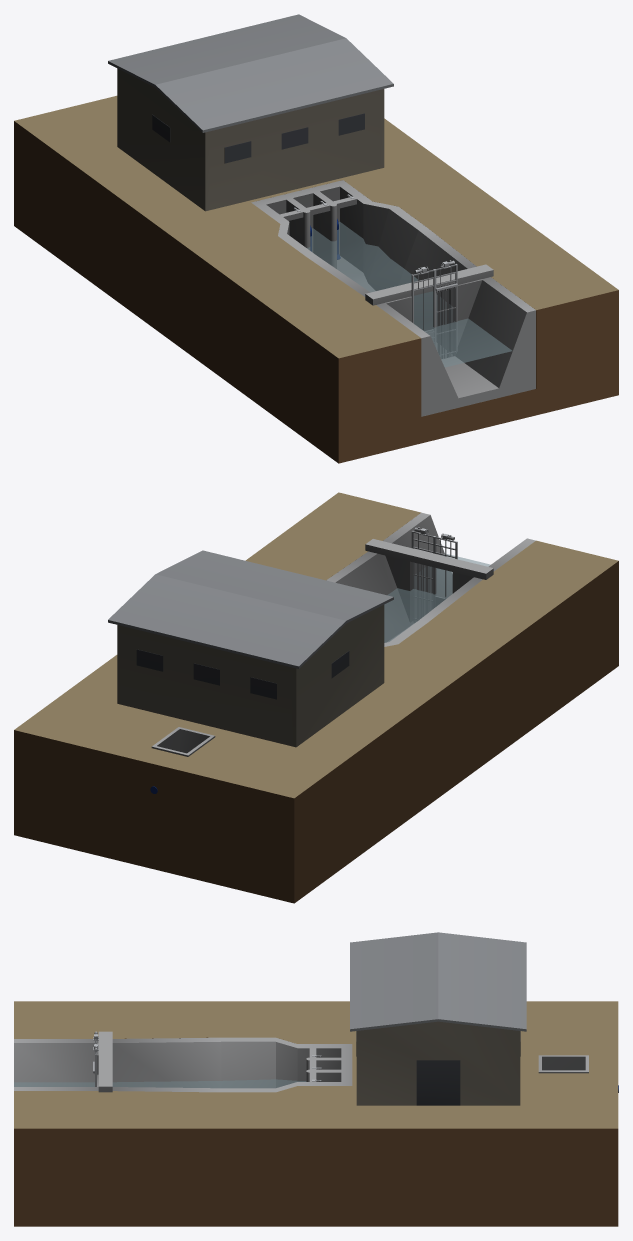
3 renders of one model, top to bottom at view 1: azimuth 30°, elevation 25°; view 2: azimuth 150°, elevation 25°; view 3: azimuth 270°, elevation 25°, orthographic. The views are drawn at different scales.
Visible parts, largest first — view 1: STATIC__SOIL, STATIC__CIVIL, STATIC__BLD-ROOF, STATIC__BLD-WALL-S, STATIC__BLD-WALL-W, BASIN-01, RACK-01__RACK__BARS, STATIC__BLD-WALL-S__WIN; view 2: STATIC__SOIL, STATIC__BLD-ROOF, STATIC__BLD-WALL-N, STATIC__CIVIL, STATIC__BLD-WALL-W, BASIN-01, RACK-01__RACK__BARS, STATIC__BLD-WALL-N__WIN, STATIC__FM-PIT; view 3: STATIC__SOIL, STATIC__CIVIL, STATIC__BLD-ROOF, STATIC__BLD-WALL-E, STATIC__BLD-WALL-E__WIN, BASIN-01, STATIC__FM-PIT.
Part boxes in pixels (<box>): STATIC__SOIL: <box>14,95,618,463</box>; STATIC__CIVIL: <box>251,180,535,416</box>; STATIC__BLD-ROOF: <box>108,14,393,132</box>; STATIC__BLD-WALL-S: <box>209,90,380,210</box>; STATIC__BLD-WALL-W: <box>117,68,209,211</box>; BASIN-01: <box>307,222,511,367</box>; RACK-01__RACK__BARS: <box>434,260,457,358</box>; STATIC__BLD-WALL-S__WIN: <box>224,113,364,163</box>; STATIC__SOIL: <box>14,492,618,903</box>; STATIC__BLD-ROOF: <box>108,550,393,668</box>; STATIC__BLD-WALL-N: <box>121,626,292,746</box>; STATIC__CIVIL: <box>326,512,535,646</box>; STATIC__BLD-WALL-W: <box>292,605,384,747</box>; BASIN-01: <box>384,553,490,642</box>; RACK-01__RACK__BARS: <box>411,527,435,622</box>; STATIC__BLD-WALL-N__WIN: <box>136,649,276,699</box>; STATIC__FM-PIT: <box>151,727,215,756</box>; STATIC__SOIL: <box>14,1001,618,1226</box>; STATIC__CIVIL: <box>14,1031,352,1092</box>; STATIC__BLD-ROOF: <box>350,932,526,1031</box>; STATIC__BLD-WALL-E: <box>356,1021,520,1105</box>; STATIC__BLD-WALL-E__WIN: <box>416,1060,460,1105</box>; BASIN-01: <box>14,1079,306,1088</box>; STATIC__FM-PIT: <box>538,1055,588,1073</box>.
Bounding box in the file's own units: 27.62 × 18.93 × 55.45.
